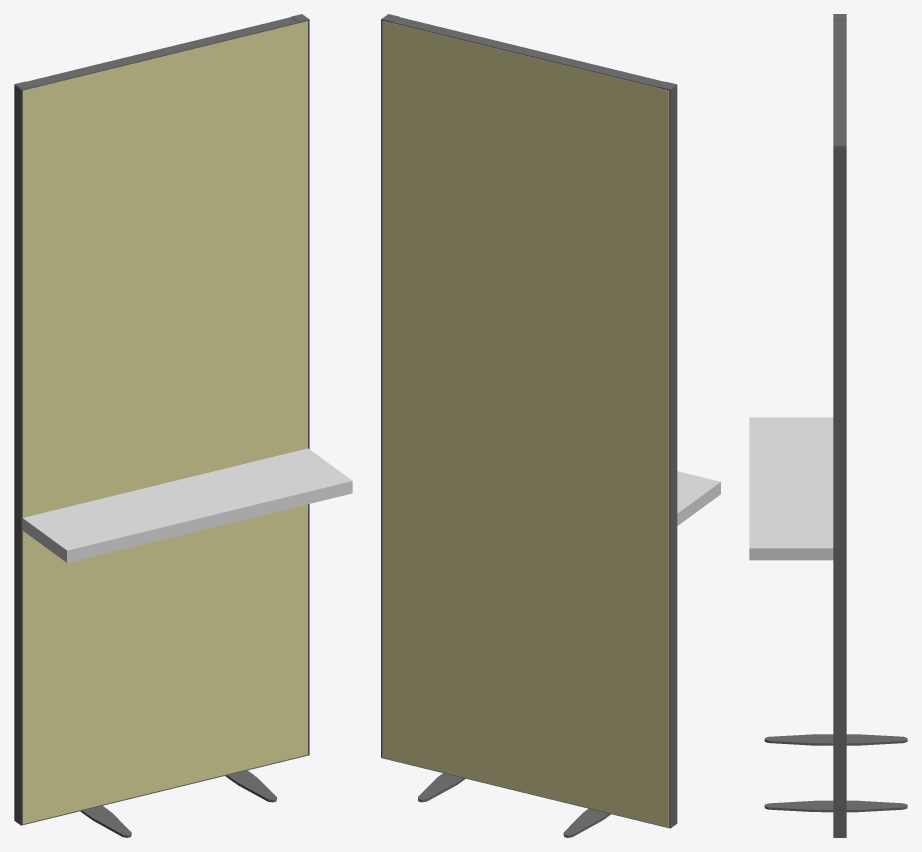
Rendered from 1 Shelf.glb.
3 renders of one model, left to right at view 1: azimuth 30°, elevation 25°; view 2: azimuth 150°, elevation 25°; view 3: azimuth 270°, elevation 25°, orthographic. The views are drawn at different scales.
Visible parts, largest first — view 1: Standard 38.031, 3 Shelves.001, toggle_feet_center.026; view 2: toggle_back_panel.016, Standard 38.031, 3 Shelves.001, toggle_feet_center.026; view 3: 3 Shelves.001, Standard 38.031, toggle_feet_center.026, toggle_feet_edge.023.
Part boxes in pixels (x1,y1,x2,y2): Standard 38.031: (14,14,309,825); 3 Shelves.001: (22,448,352,562); toggle_feet_center.026: (80,770,272,832); toggle_back_panel.016: (382,21,668,826); Standard 38.031: (381,14,677,828); 3 Shelves.001: (677,471,720,525); toggle_feet_center.026: (418,773,610,837); 3 Shelves.001: (749,417,833,560); Standard 38.031: (833,14,846,837); toggle_feet_center.026: (772,734,907,812); toggle_feet_edge.023: (764,734,821,811).
Bounding box in the file's own units: 0.969 × 2.37 × 0.4893.
